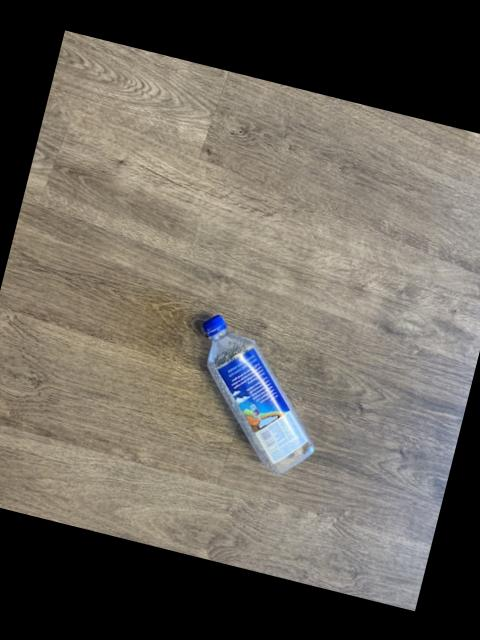plastic: (204, 316, 315, 474)
